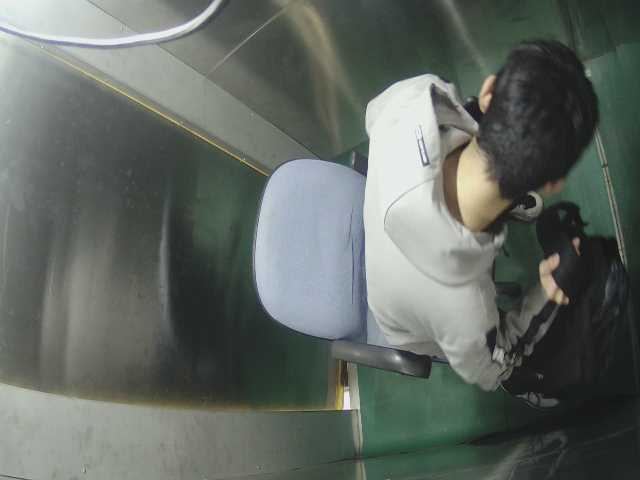chair: (238, 151, 469, 384)
person: (354, 39, 600, 402)
